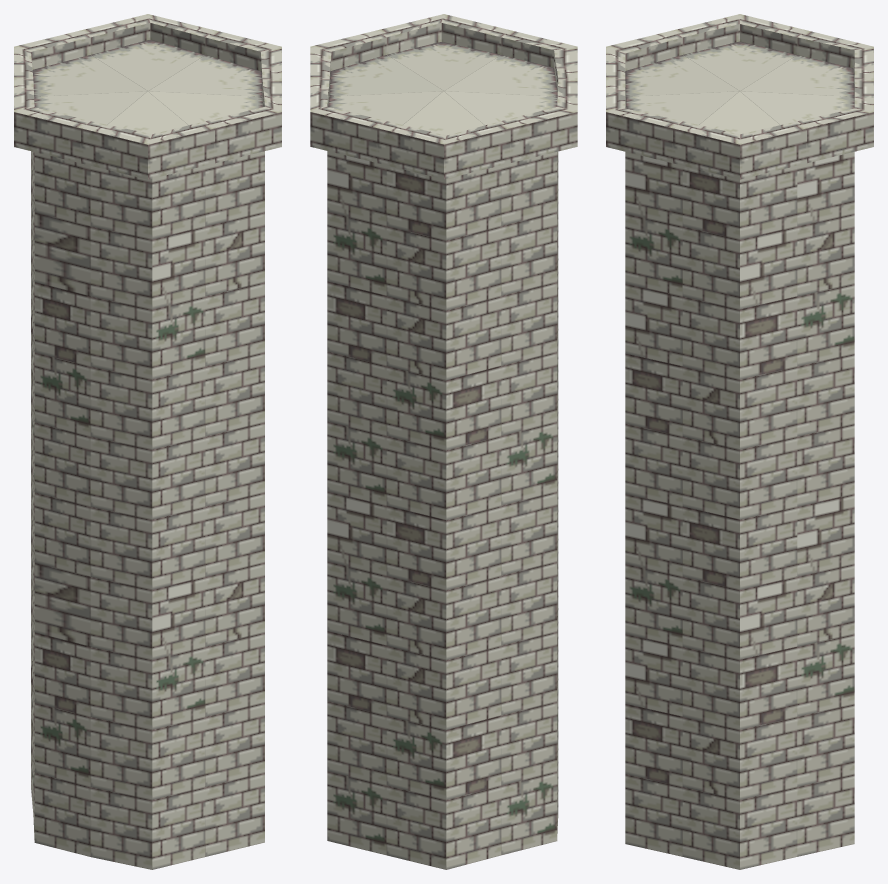
File: base_tower.fbx
The picture shows the model from 3 angles, left to right: view 1: azimuth 30°, elevation 25°; view 2: azimuth 150°, elevation 25°; view 3: azimuth 270°, elevation 25°; orthographic projection.
Visible parts, largest first — view 1: base_tower; view 2: base_tower; view 3: base_tower.
Part boxes in pixels (bbox=[...]): base_tower: bbox=[14, 14, 281, 869]; base_tower: bbox=[310, 14, 577, 869]; base_tower: bbox=[606, 14, 873, 869].
Bounding box in the file's own units: 400 × 1050 × 346.
